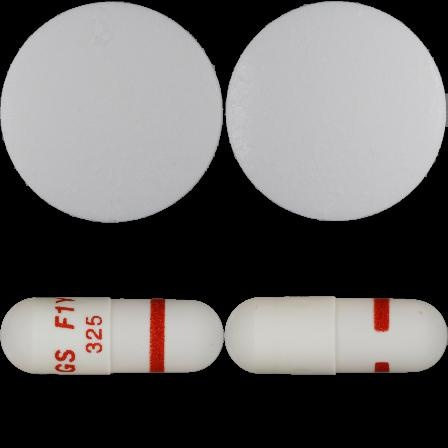0173-0822: (0, 0, 224, 224)
